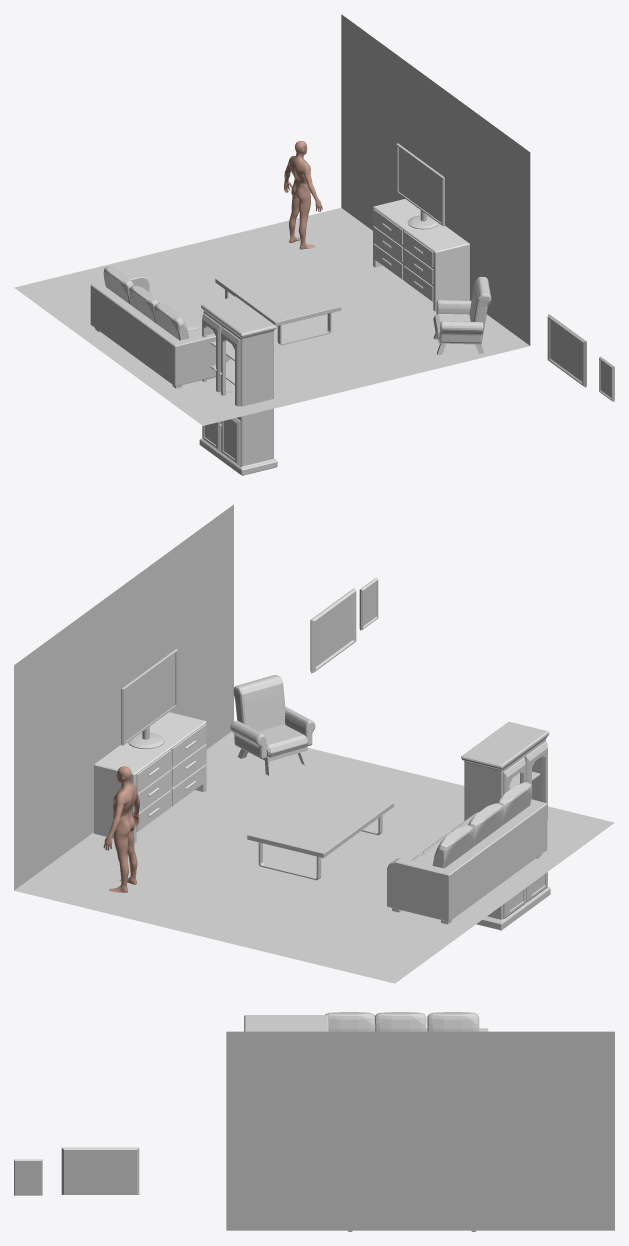
The model's file is Chinese_Cabinetfbx.fbx.
3 renders of one model, top to bottom at view 1: azimuth 30°, elevation 25°; view 2: azimuth 150°, elevation 25°; view 3: azimuth 270°, elevation 25°, orthographic. The views are drawn at different scales.
Visible parts, largest first — view 1: Cube.009, Cube.012, Cube.019, Cube.002, Cube, Cube.036, Cube.004, HumanBody:humanBody, Cube.030, Cube.016, Cube.022, Cube.021 (+2 smaller); view 2: Cube.009, Cube.019, Cube.002, Cube.012, Cube.036, Cube, Cube.004, Cube.030, HumanBody:humanBody, Cube.020, Cube.023, Cube.021 (+6 smaller); view 3: Cube.009, Cube.030, Cube.012, Cube.031, Cube.020, Cube.023, Cube.021.
Boxes of the visible parts, x1,y1,x2,y2 form: Cube.009: [14, 14, 530, 425]; Cube.012: [199, 296, 277, 475]; Cube.019: [90, 273, 228, 388]; Cube.002: [215, 262, 341, 345]; Cube: [373, 199, 469, 311]; Cube.036: [433, 276, 491, 354]; Cube.004: [396, 143, 444, 226]; HumanBody:humanBody: [284, 141, 322, 249]; Cube.030: [547, 314, 586, 387]; Cube.016: [219, 327, 240, 406]; Cube.022: [219, 418, 240, 465]; Cube.021: [154, 303, 189, 340]; Cube.009: [14, 504, 614, 983]; Cube.019: [387, 799, 547, 924]; Cube.002: [247, 783, 393, 880]; Cube.012: [461, 721, 550, 930]; Cube.036: [230, 675, 315, 775]; Cube: [94, 712, 206, 843]; Cube.004: [121, 649, 177, 745]; Cube.030: [310, 588, 356, 673]; HumanBody:humanBody: [103, 766, 139, 892]; Cube.020: [432, 825, 473, 868]; Cube.023: [468, 803, 503, 848]; Cube.021: [497, 782, 532, 825]; Cube.009: [226, 1031, 614, 1230]; Cube.030: [61, 1147, 139, 1194]; Cube.012: [244, 1015, 328, 1031]; Cube.031: [14, 1159, 42, 1195]; Cube.020: [427, 1012, 479, 1031]; Cube.023: [375, 1012, 426, 1031]; Cube.021: [325, 1012, 374, 1031].
Size of the model in its own units: 601 by 458 by 929.
